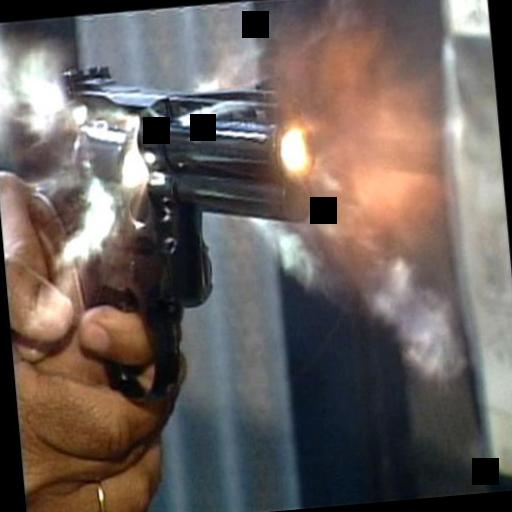Handgun: (8, 42, 336, 410)
